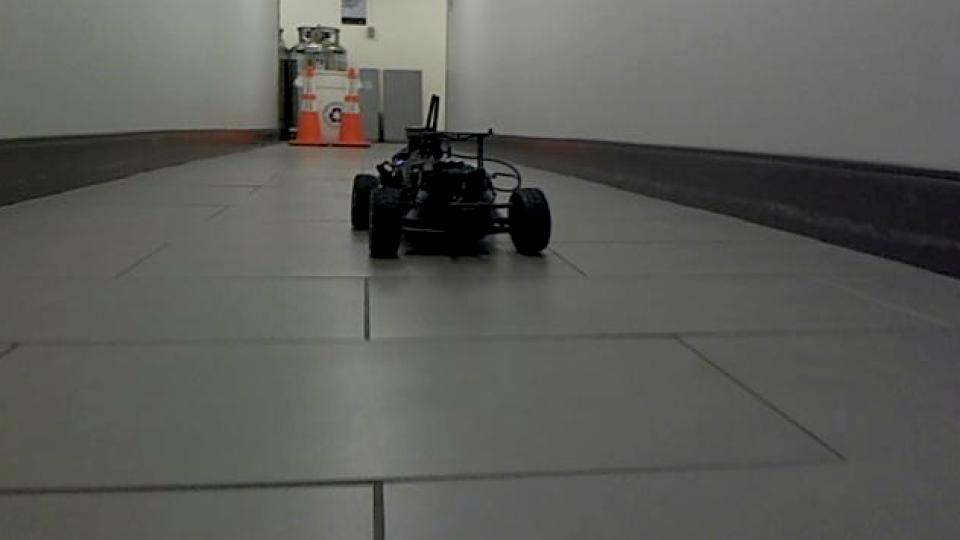car: (346, 92, 553, 262)
